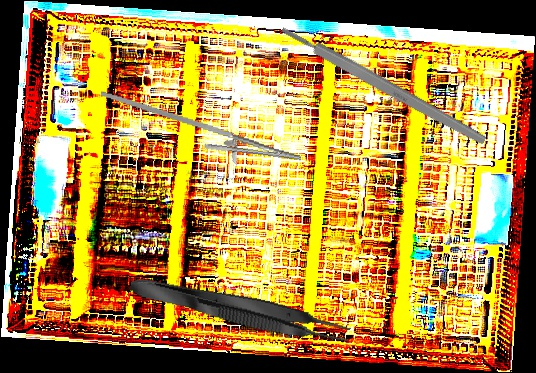Needle Holder: (92, 89, 307, 178)
Scalpel Handle: (279, 22, 488, 148)
Tissue Forceps: (127, 268, 353, 351)
